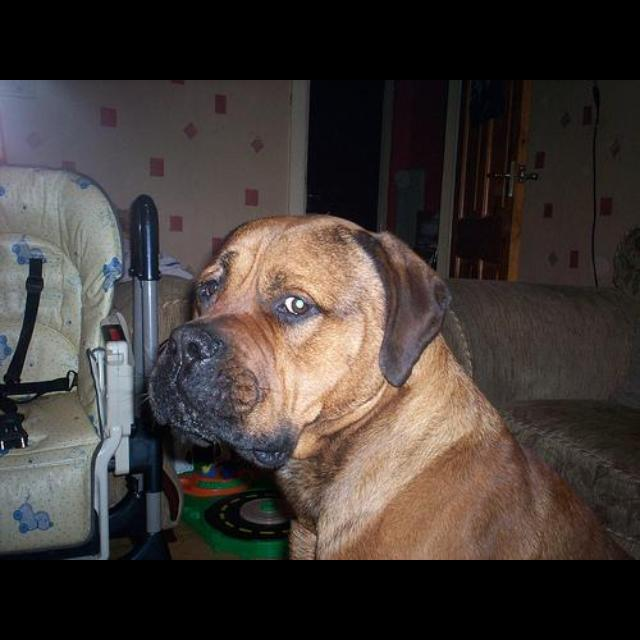bullmastiff: (145, 213, 640, 559)
